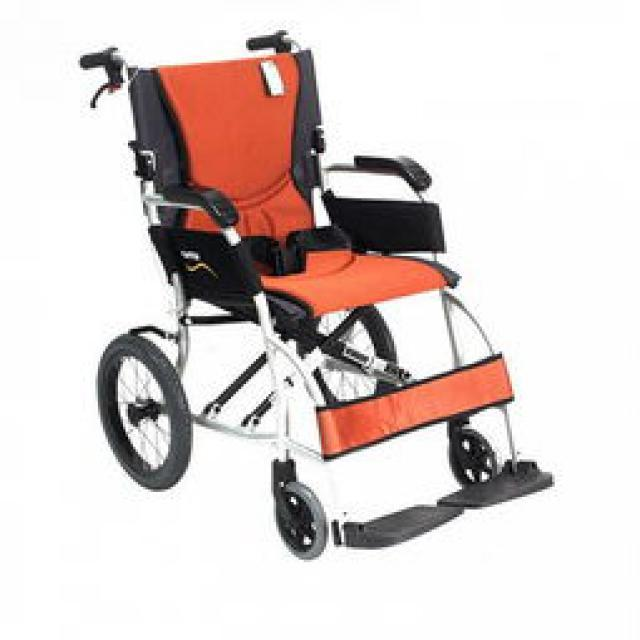wheelchair: (20, 20, 580, 582)
